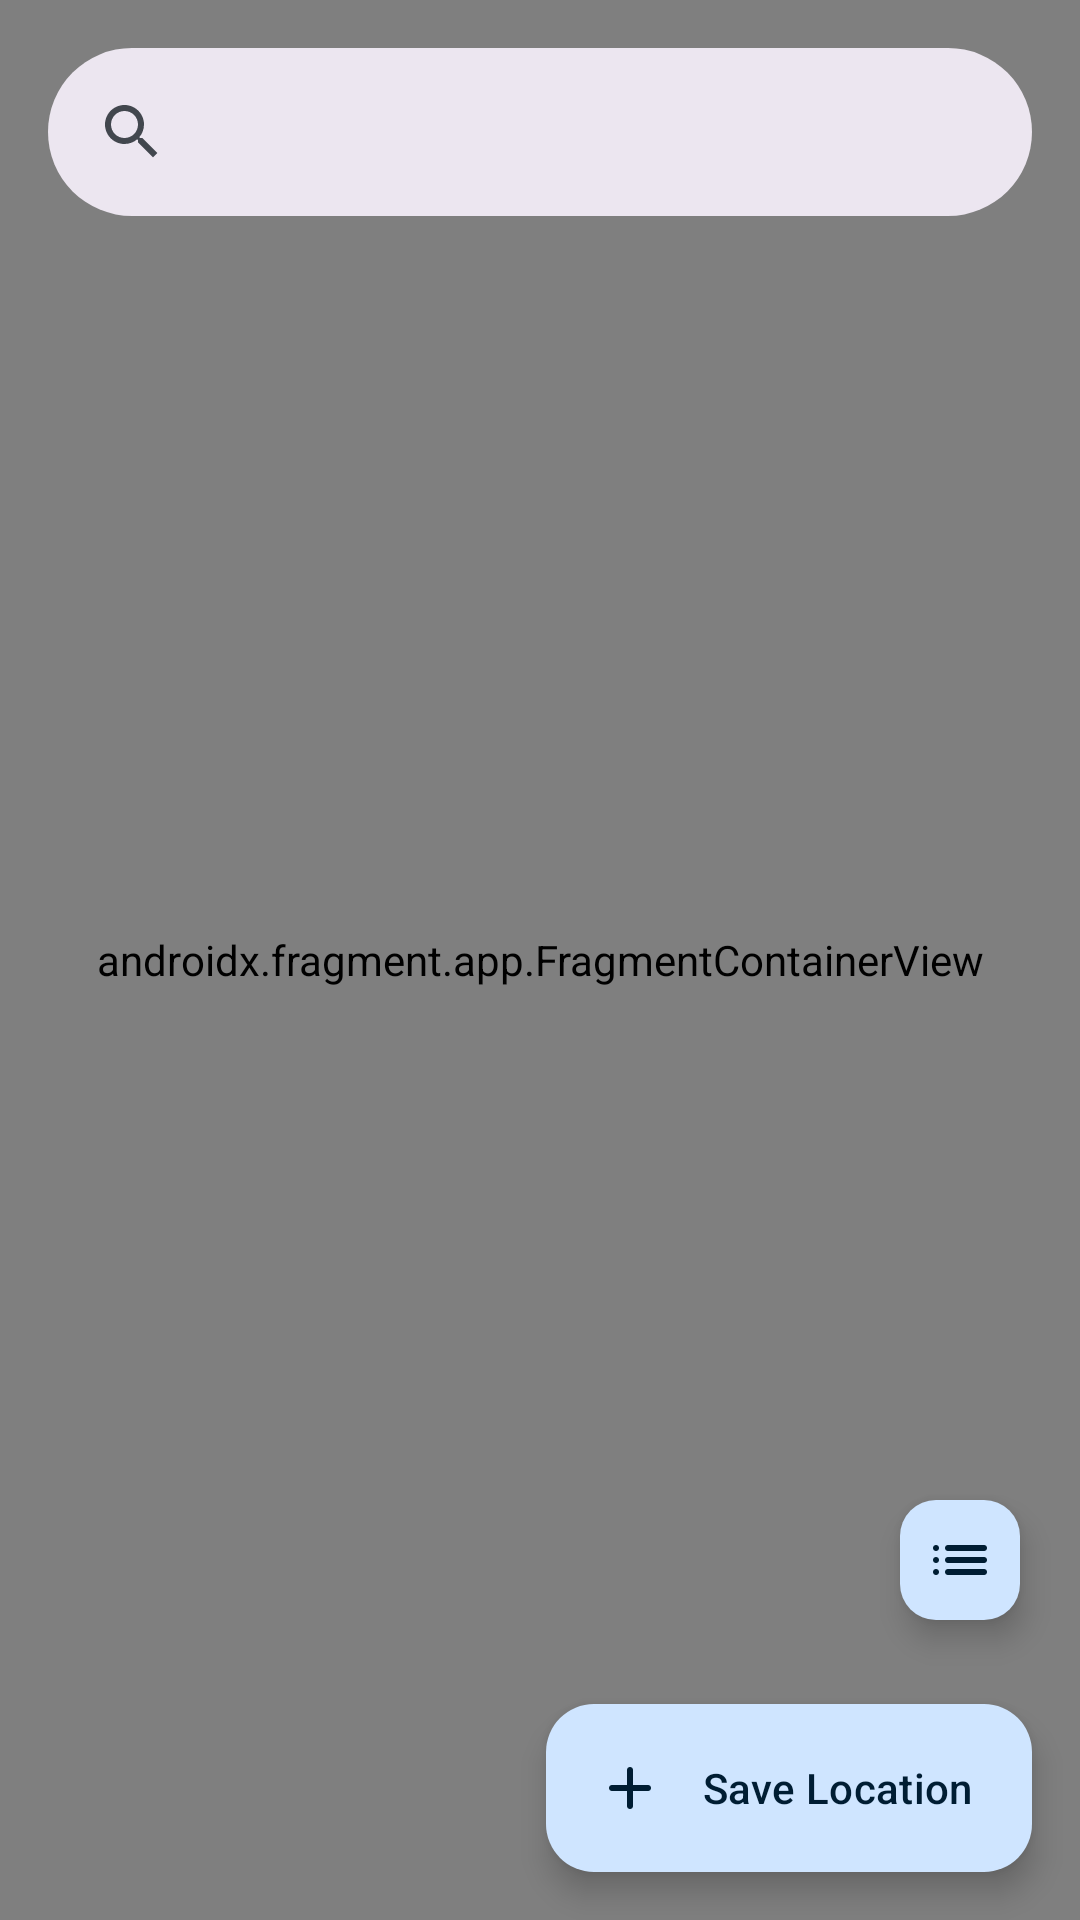

Named icons in this screenshot (1080x1920) and their centers, (x,y):
List saved locations: (960,1560)
